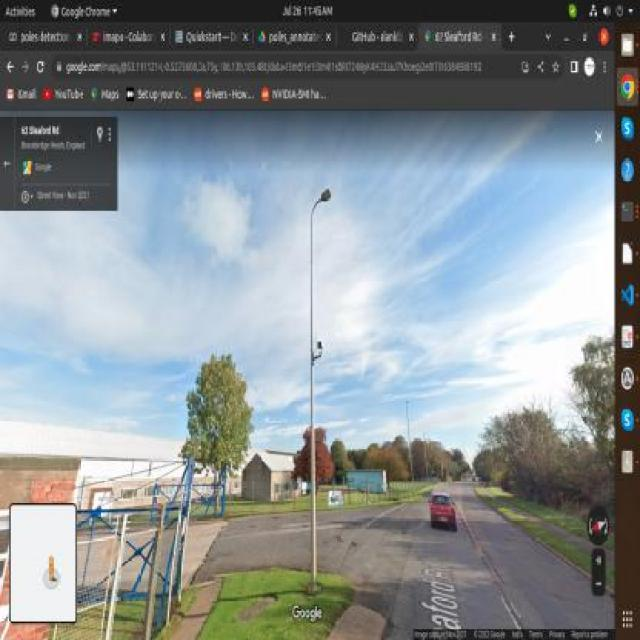pole: (302, 188, 336, 588)
